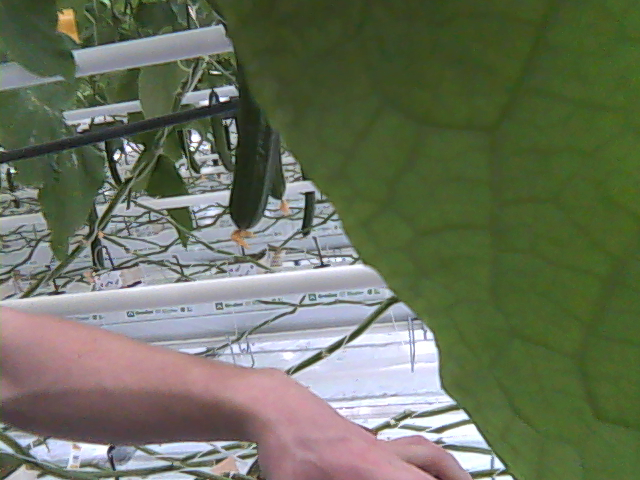concombre: (226, 57, 273, 250)
